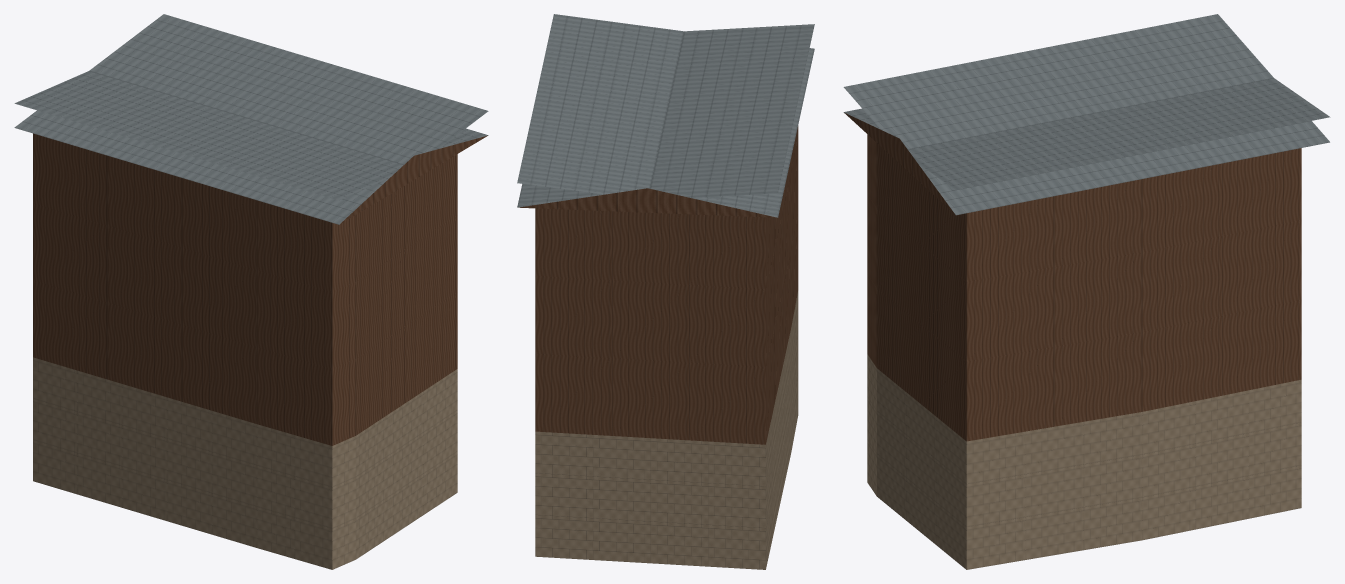
Rendered from bld_c44_34_252.gltf.
The picture shows the model from 3 angles, left to right: view 1: azimuth 30°, elevation 25°; view 2: azimuth 150°, elevation 25°; view 3: azimuth 270°, elevation 25°; orthographic projection. The views are drawn at different scales.
Parts seen in each view (by area): view 1: bld_c44_34_252; view 2: bld_c44_34_252; view 3: bld_c44_34_252.
Part boxes in pixels (x1,y1,x2,y2): bld_c44_34_252: (14, 14, 488, 569); bld_c44_34_252: (517, 14, 814, 569); bld_c44_34_252: (843, 14, 1330, 569).
Bounding box in the file's own units: 15 × 15.6 × 17.53.
4 materials, 4 textured.
